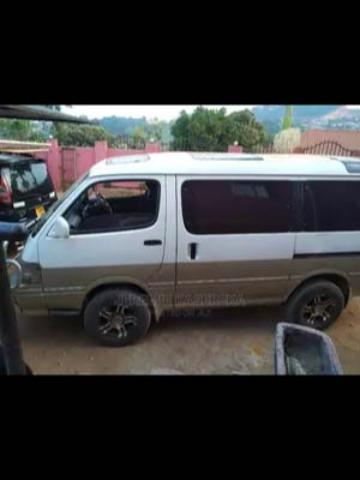van: (16, 150, 359, 344)
